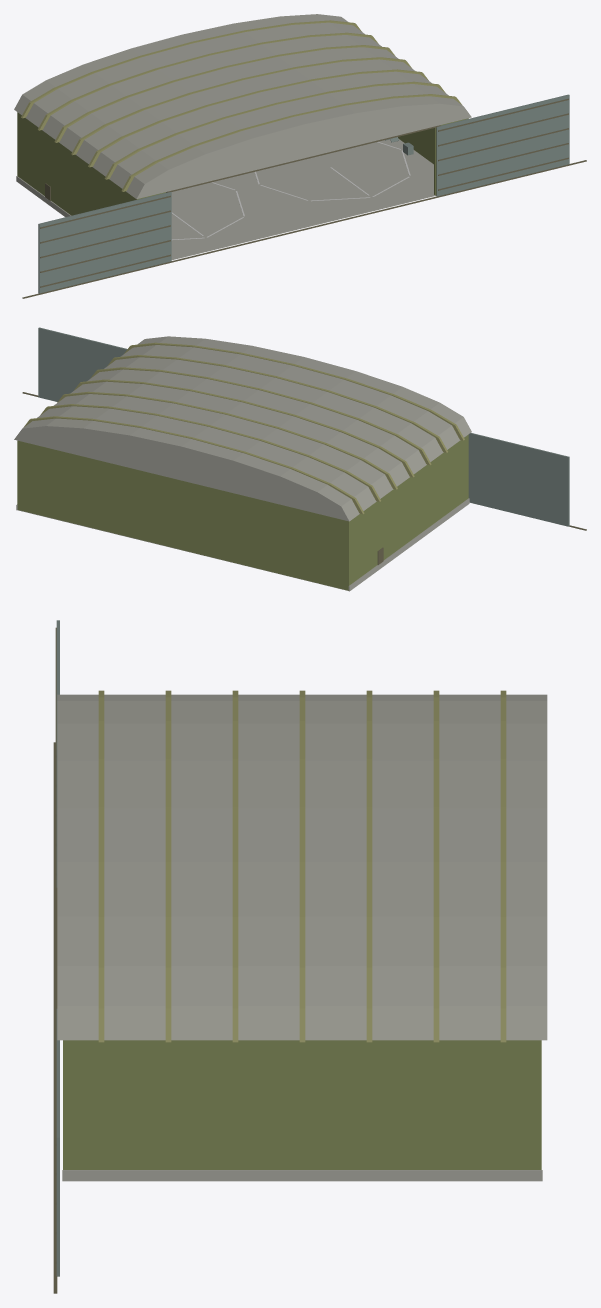
The model's file is SM_HangarAbierto_v0_Taller_LOD0.fbx.
The picture shows the model from 3 angles, top to bottom: view 1: azimuth 30°, elevation 25°; view 2: azimuth 150°, elevation 25°; view 3: azimuth 270°, elevation 25°; orthographic projection. The views are drawn at different scales.
Visible parts, largest first — view 1: Cubierta, SM_hangar_abierto_v0_LOD0, Porton_E, Porton_O; view 2: Cubierta, SM_hangar_abierto_v0_LOD0, Porton_O, Porton_E; view 3: Cubierta, SM_hangar_abierto_v0_LOD0, Porton_E, Porton_O.
Part boxes in pixels (<box>): Cubierta: <box>14,14,471,199</box>; SM_hangar_abierto_v0_LOD0: <box>16,112,586,298</box>; Porton_E: <box>436,94,569,196</box>; Porton_O: <box>38,192,171,293</box>; Cubierta: <box>14,336,471,521</box>; SM_hangar_abierto_v0_LOD0: <box>16,392,586,591</box>; Porton_O: <box>468,433,569,526</box>; Porton_E: <box>38,327,127,401</box>; Cubierta: <box>57,690,547,1042</box>; SM_hangar_abierto_v0_LOD0: <box>53,742,542,1293</box>; Porton_E: <box>55,1009,59,1276</box>; Porton_O: <box>55,620,59,887</box>.
Size of the model in its own units: 68 by 12.18 by 25.8.
